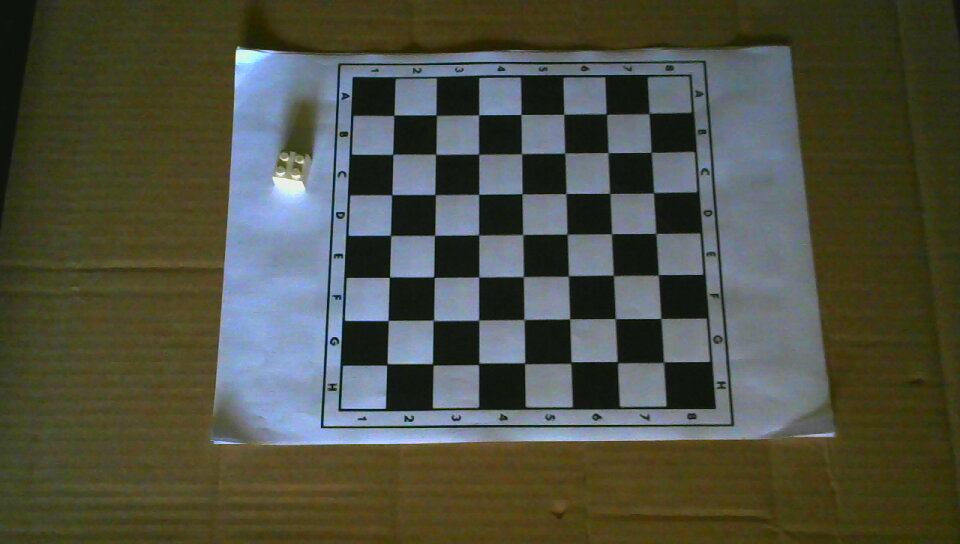wp: (271, 148, 312, 191)
